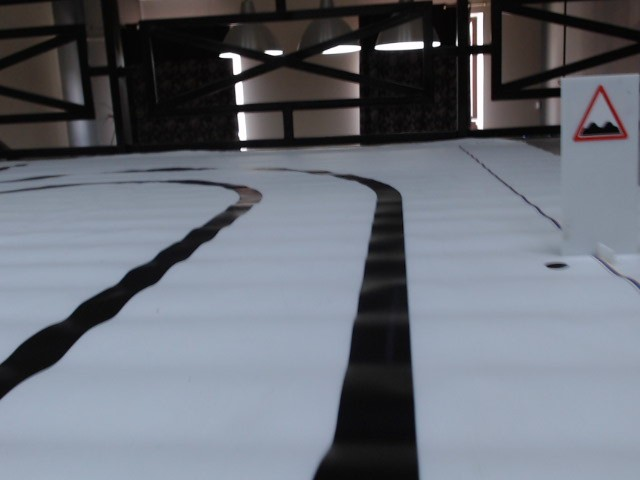Nerov: (572, 84, 629, 142)
